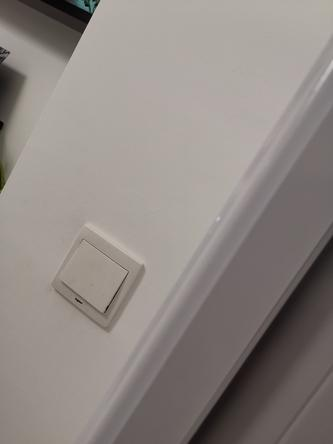switch: (48, 237, 131, 318)
